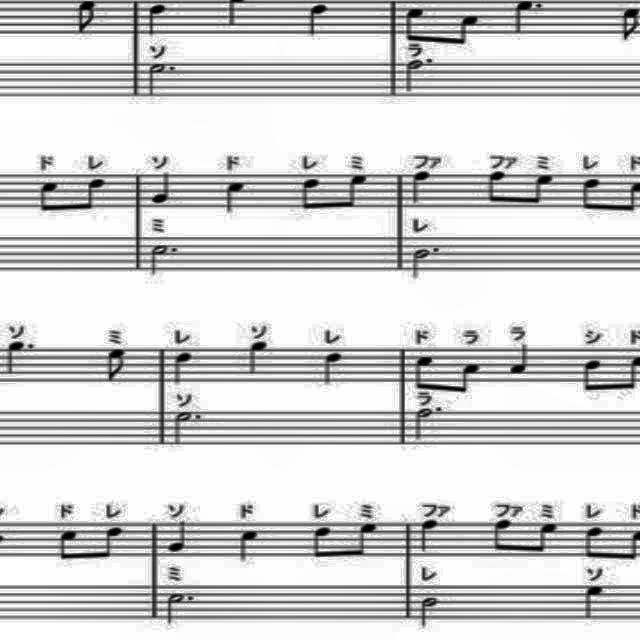Eighth-note: (448, 4, 484, 52), (75, 170, 109, 218), (576, 520, 608, 568), (401, 2, 435, 46), (575, 172, 607, 216), (522, 172, 558, 210), (338, 171, 370, 213), (490, 514, 518, 562), (96, 520, 126, 564), (411, 350, 441, 394), (32, 176, 64, 217), (451, 358, 483, 398), (532, 520, 564, 560), (580, 352, 606, 401), (483, 168, 513, 210), (105, 342, 131, 390), (352, 518, 380, 562), (54, 526, 82, 570), (305, 520, 333, 564), (294, 175, 322, 218), (616, 4, 640, 48), (73, 0, 99, 40)
Half-dot: (401, 55, 439, 97), (167, 408, 205, 448), (163, 588, 199, 628), (414, 405, 446, 447), (144, 62, 180, 98), (409, 242, 441, 282), (150, 238, 178, 280)
Half-note: (420, 588, 440, 632)
Quarter-dot: (4, 340, 38, 382), (511, 0, 547, 34)
Quarter-note: (314, 350, 350, 386), (164, 348, 196, 388), (221, 177, 251, 219), (244, 338, 276, 377), (306, 1, 334, 44), (406, 168, 438, 205), (235, 526, 265, 564), (415, 517, 445, 555), (506, 342, 536, 378), (581, 583, 609, 621), (145, 170, 175, 204), (166, 520, 194, 556), (146, 0, 170, 40)
